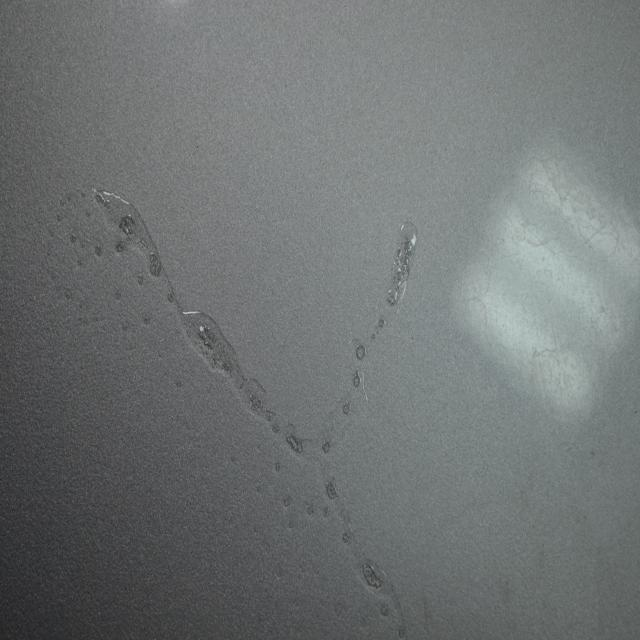runs: (53, 185, 415, 640)
water marks: (492, 284, 584, 410), (493, 162, 570, 273), (445, 282, 493, 358), (458, 227, 496, 300)
